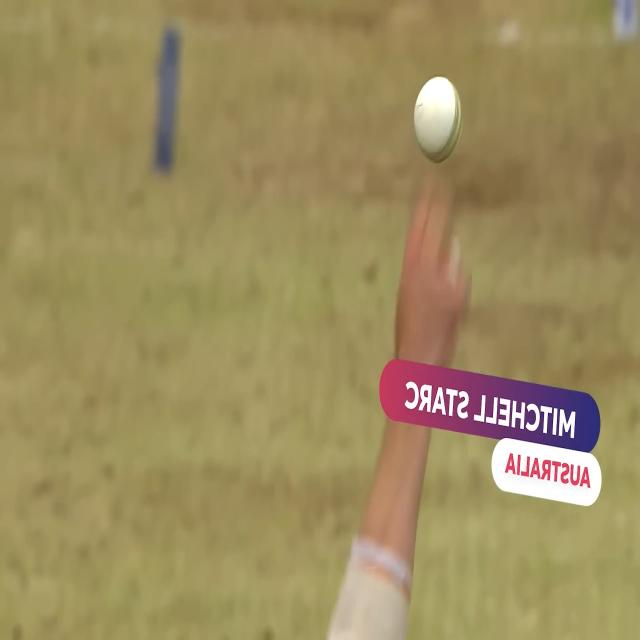ball: (398, 61, 478, 166)
